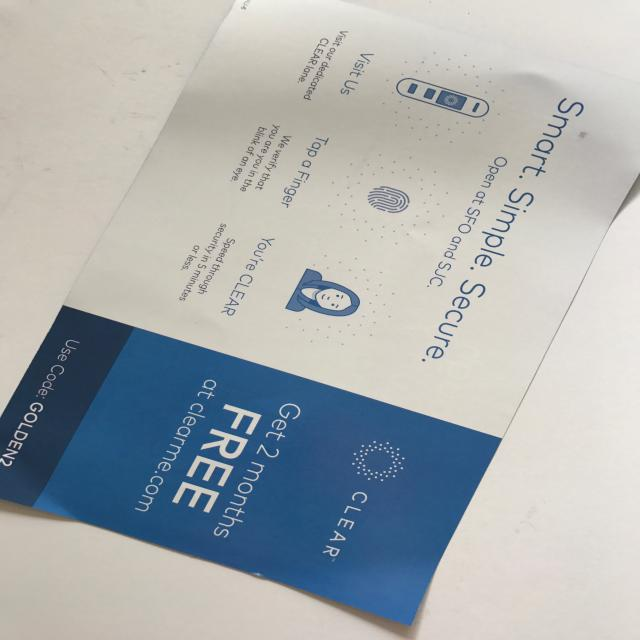paper: (1, 1, 638, 635)
